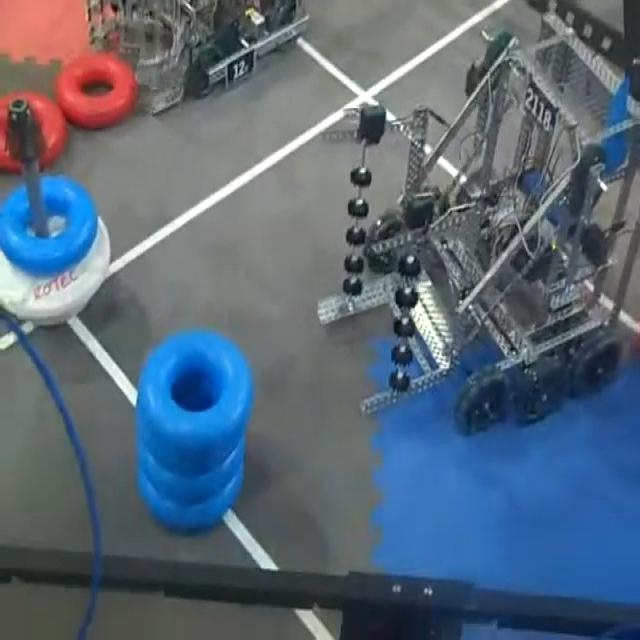Blue-Ring: (139, 330, 252, 452), (0, 175, 98, 276), (138, 437, 245, 506), (138, 465, 242, 530), (138, 426, 240, 473)
Red-Ring: (55, 53, 138, 128), (0, 92, 66, 172)
